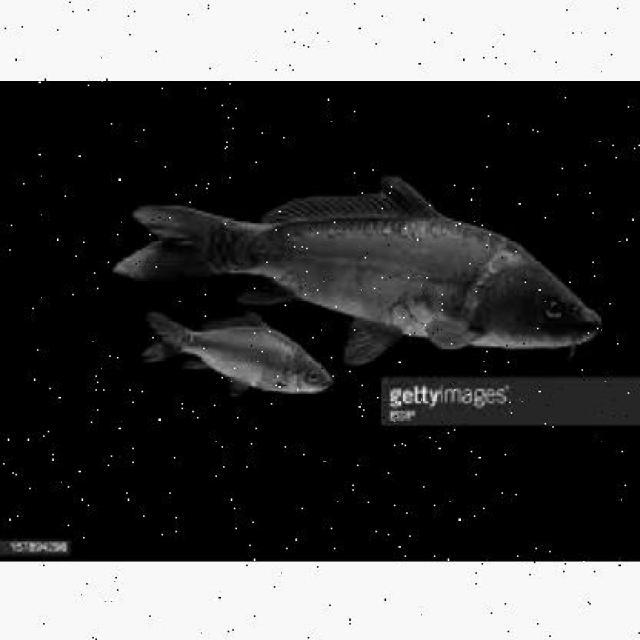ikan-mas: (120, 168, 602, 349), (136, 303, 338, 399)
